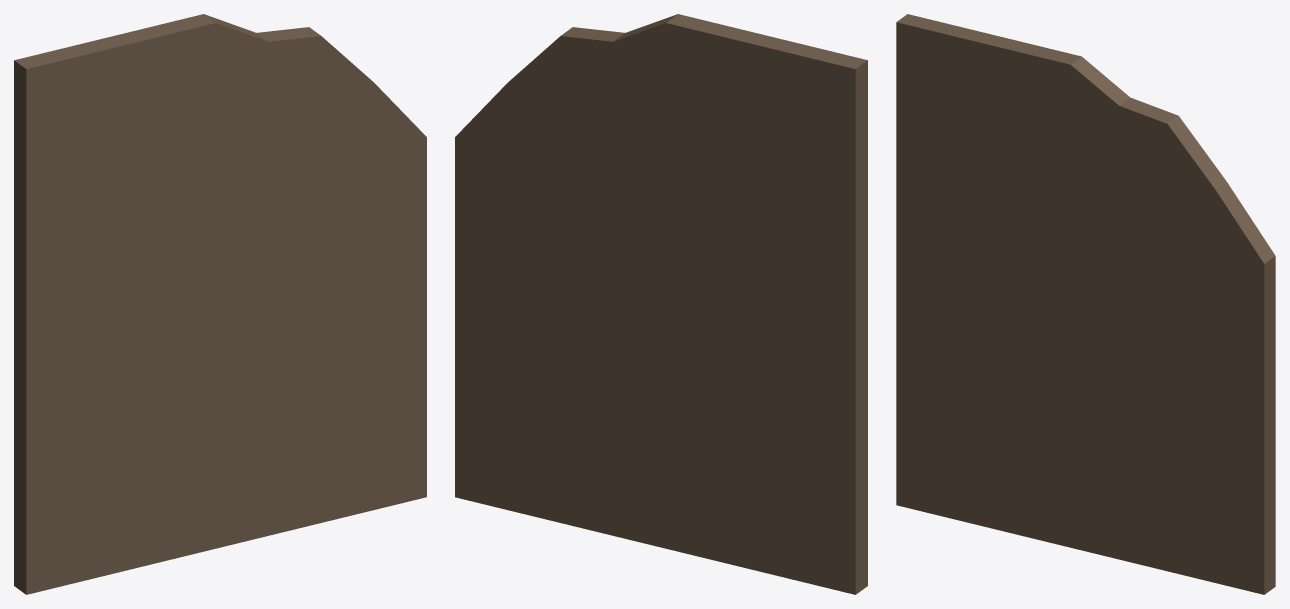
The picture shows the model from 3 angles, left to right: view 1: azimuth 30°, elevation 25°; view 2: azimuth 150°, elevation 25°; view 3: azimuth 330°, elevation 25°; orthographic projection. The views are drawn at different scales.
Parts seen in each view (by area): view 1: Cube.054; view 2: Cube.054; view 3: Cube.054.
Part boxes in pixels (x1,y1,x2,y2): Cube.054: [14, 14, 426, 594]; Cube.054: [455, 14, 867, 594]; Cube.054: [896, 14, 1275, 594].
Bounding box in the file's own units: 1.59 × 2 × 0.0849.
